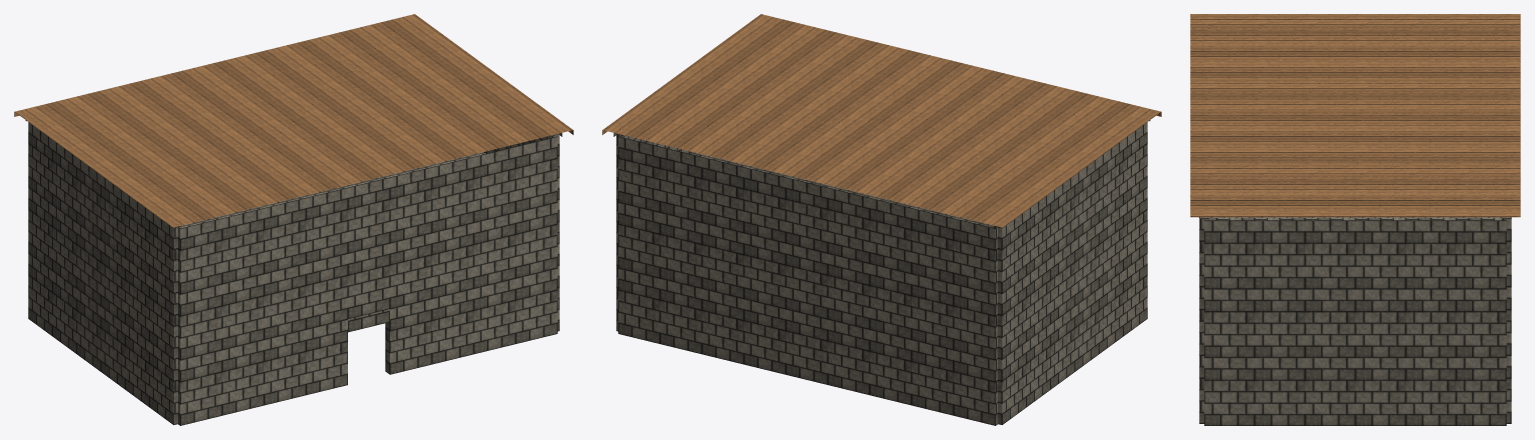
File: house.glb
3 views of the same model, side by side, from view 1: azimuth 30°, elevation 25°; view 2: azimuth 150°, elevation 25°; view 3: azimuth 270°, elevation 25° (orthographic). The views are drawn at different scales.
Parts seen in each view (by area): view 1: prop; view 2: prop; view 3: prop.
Boxes of the visible parts, x1=… form: prop: x1=14, y1=14, x2=573, y2=425; prop: x1=602, y1=14, x2=1161, y2=425; prop: x1=1190, y1=14, x2=1520, y2=425.
Bounding box in the file's own units: 19.1 × 9.3 × 13.1.
45 materials, 45 textured.
